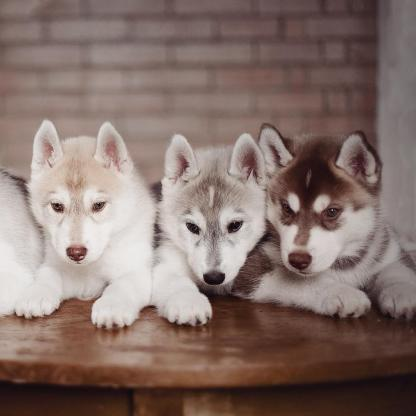husky: (234, 124, 413, 318), (0, 119, 158, 328), (151, 132, 269, 325)
